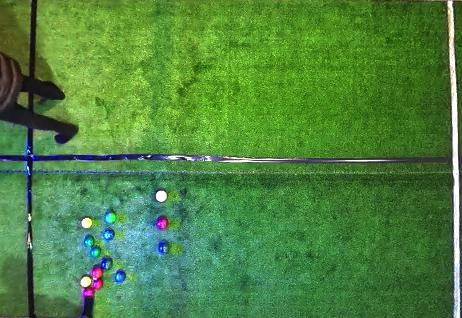blue: (115, 271, 126, 283), (103, 229, 115, 240)
green: (101, 258, 113, 270), (104, 211, 116, 223), (158, 242, 169, 254), (84, 236, 95, 247), (90, 248, 101, 257)
red: (157, 218, 168, 230), (83, 287, 95, 298), (91, 267, 103, 278), (156, 190, 167, 202), (92, 279, 103, 290)
vline: (1, 130, 35, 317), (445, 0, 461, 318), (1, 0, 38, 78)
white: (93, 278, 97, 280)
yellow: (80, 276, 92, 287), (81, 217, 92, 228)
